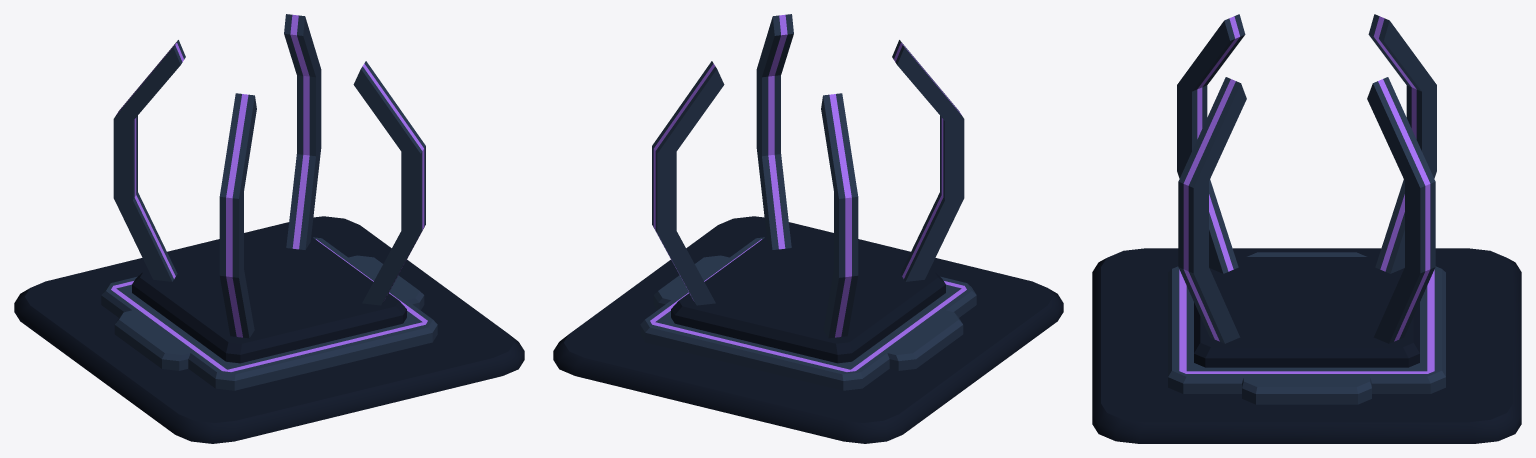
The model's file is HackingNode.fbx.
3 views of the same model, side by side, from view 1: azimuth 30°, elevation 25°; view 2: azimuth 150°, elevation 25°; view 3: azimuth 270°, elevation 25° (orthographic). The views are drawn at different scales.
Parts seen in each view (by area): view 1: HackingNode; view 2: HackingNode; view 3: HackingNode.
Boxes of the visible parts, box(x1,y1,x2,y2) form: HackingNode: box(14, 14, 524, 443); HackingNode: box(553, 14, 1063, 443); HackingNode: box(1092, 14, 1521, 443).
Size of the model in its own units: 201 by 157 by 201.
2 materials, 2 textured.
